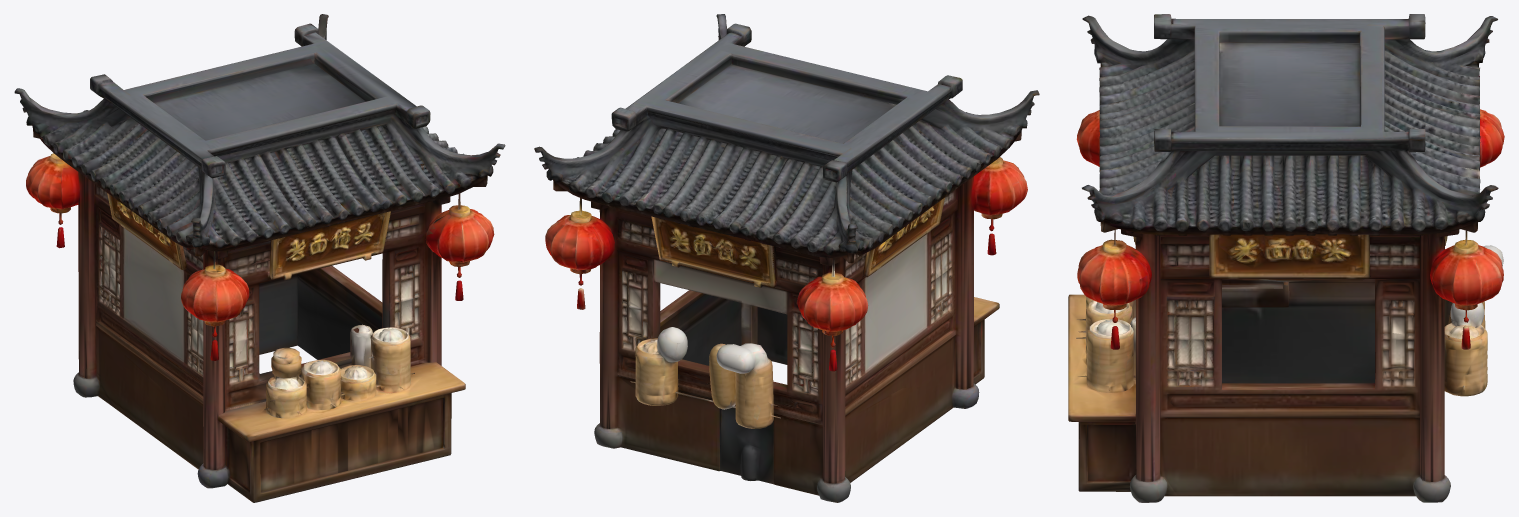
File: baozipu.glb
3 views of the same model, side by side, from view 1: azimuth 30°, elevation 25°; view 2: azimuth 150°, elevation 25°; view 3: azimuth 270°, elevation 25° (orthographic). The views are drawn at different scales.
Visible parts, largest first — view 1: node_0; view 2: node_0; view 3: node_0.
Boxes of the visible parts, left/top/right/bottom form: node_0: left=14, top=14, right=505, bottom=502; node_0: left=534, top=14, right=1039, bottom=502; node_0: left=1068, top=14, right=1504, bottom=502.
Size of the model in its own units: 0.7355 by 0.7125 by 0.7767.
1 material, 1 textured.
